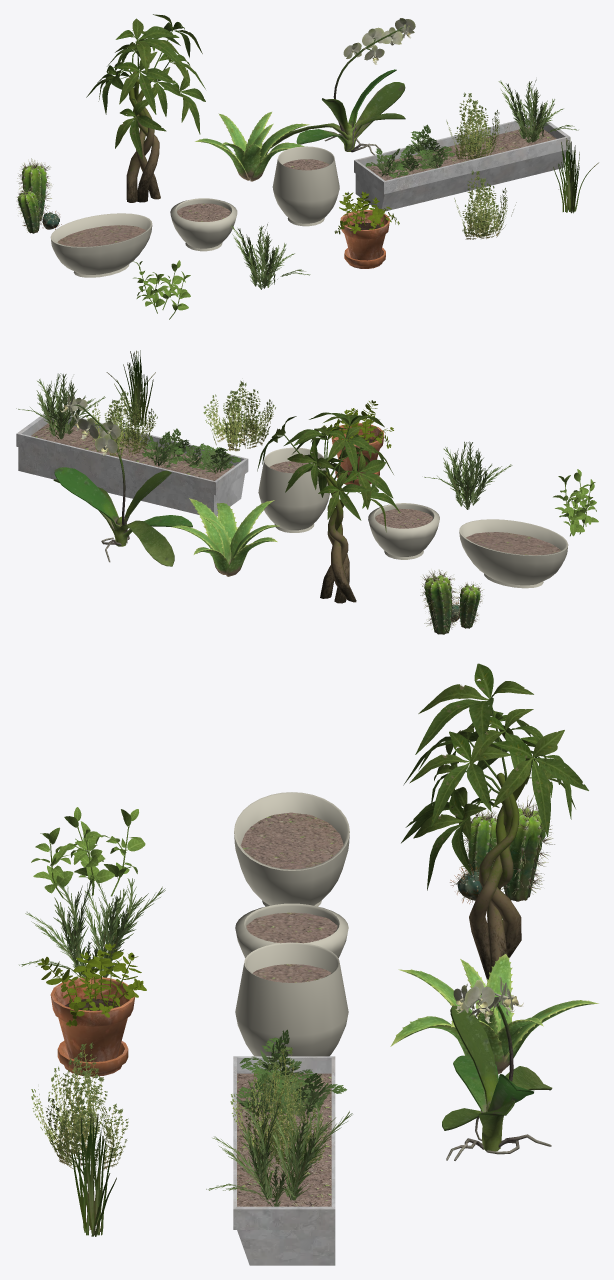
Rendered from plants.glb.
3 renders of one model, top to bottom at view 1: azimuth 30°, elevation 25°; view 2: azimuth 150°, elevation 25°; view 3: azimuth 270°, elevation 25°, orthographic. The views are drawn at different scales.
Parts seen in each view (by area): view 1: Object_10, Object_4, Object_30, Object_12, Object_32, Object_16, Object_28, Object_26, Object_34; view 2: Object_10, Object_4, Object_12, Object_30, Object_32, Object_16, Object_28, Object_34, Object_26; view 3: Object_10, Object_30, Object_4, Object_16, Object_32, Object_12, Object_26, Object_28, Object_34.
Boxes of the visible parts, bbox=[...] form: Object_10: bbox=[132, 79, 598, 319]; Object_4: bbox=[50, 146, 339, 277]; Object_30: bbox=[86, 14, 205, 202]; Object_12: bbox=[354, 115, 569, 211]; Object_32: bbox=[271, 18, 415, 155]; Object_16: bbox=[57, 127, 556, 246]; Object_28: bbox=[195, 112, 309, 181]; Object_26: bbox=[340, 210, 389, 268]; Object_34: bbox=[16, 158, 61, 233]; Object_10: bbox=[16, 350, 598, 536]; Object_4: bbox=[258, 447, 568, 588]; Object_12: bbox=[16, 410, 248, 516]; Object_30: bbox=[257, 412, 400, 603]; Object_32: bbox=[53, 395, 192, 566]; Object_16: bbox=[31, 422, 560, 555]; Object_28: bbox=[171, 498, 279, 576]; Object_34: bbox=[420, 569, 484, 634]; Object_26: bbox=[331, 423, 384, 485]; Object_10: bbox=[19, 807, 352, 1236]; Object_30: bbox=[401, 663, 588, 979]; Object_4: bbox=[234, 792, 349, 1056]; Object_16: bbox=[237, 812, 343, 1206]; Object_32: bbox=[442, 976, 552, 1160]; Object_12: bbox=[233, 1056, 335, 1265]; Object_26: bbox=[50, 977, 134, 1076]; Object_28: bbox=[390, 954, 598, 1073]; Object_34: bbox=[450, 795, 554, 903].
Size of the model in its own units: 2.51 by 0.8393 by 1.47.
Materials: 9 (8 with a texture image).
